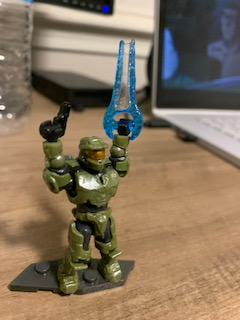chief: (35, 118, 129, 292)
pistol: (42, 102, 69, 141)
spartan: (37, 120, 131, 294)
up: (40, 118, 132, 210)
